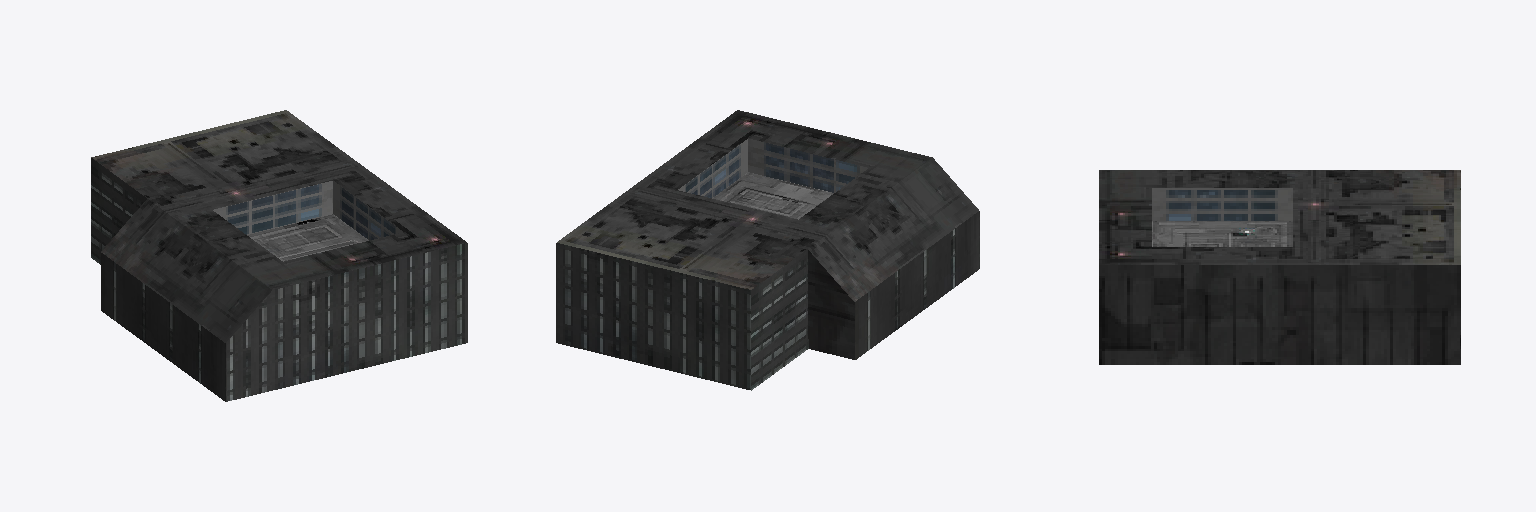
3 views of the same model, side by side, from view 1: azimuth 30°, elevation 25°; view 2: azimuth 150°, elevation 25°; view 3: azimuth 270°, elevation 25° (orthographic).
Parts seen in each view (by area): view 1: building_17; view 2: building_17; view 3: building_17.
Boxes of the visible parts, <box> form: building_17: <box>91,110,467,401</box>; building_17: <box>556,110,979,390</box>; building_17: <box>1099,170,1460,364</box>.
Size of the model in its own units: 40.87 by 16.23 by 53.06.
Materials: 1 (1 with a texture image).